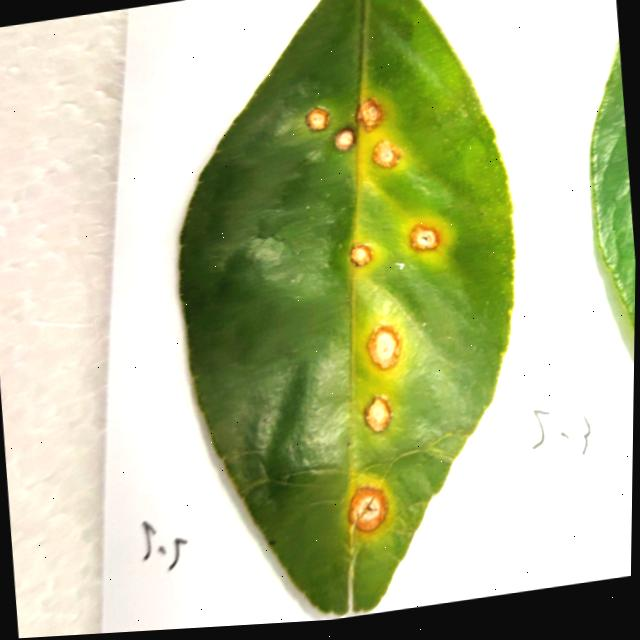antracnose: (178, 0, 512, 614), (347, 486, 386, 532), (366, 325, 399, 369), (363, 396, 390, 432), (355, 98, 381, 131), (371, 139, 401, 167), (409, 225, 438, 250), (348, 243, 371, 266), (305, 108, 328, 130), (334, 128, 353, 150)
